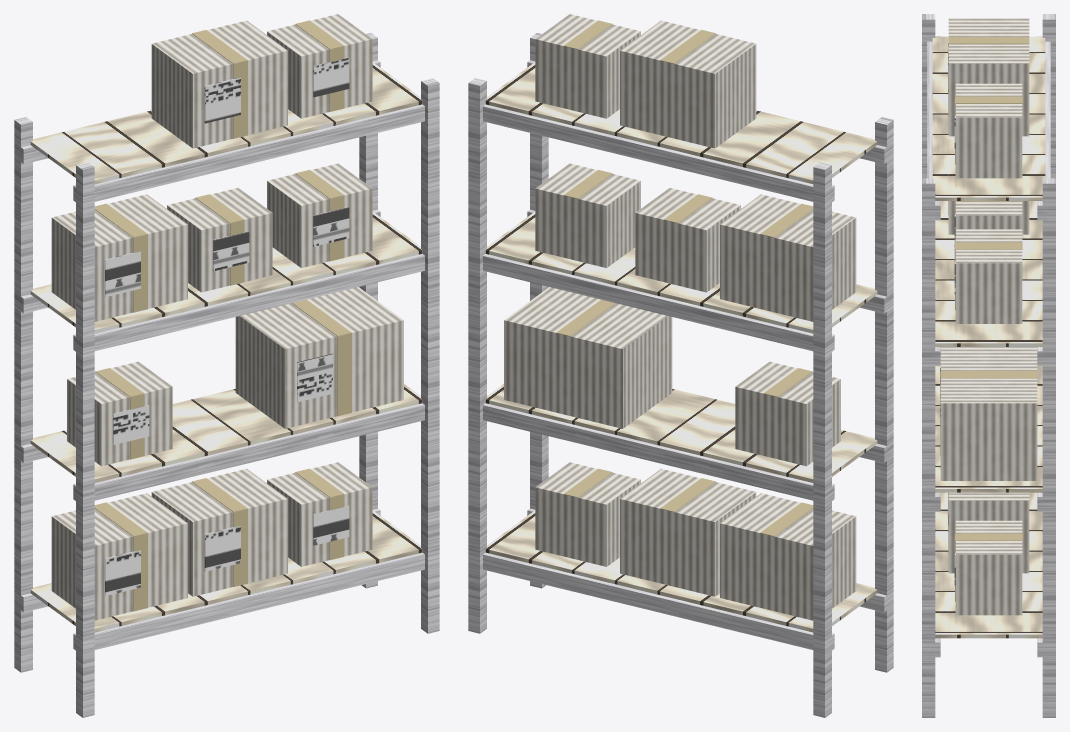
The model's file is rack_mag_dx0.obj.
3 views of the same model, side by side, from view 1: azimuth 30°, elevation 25°; view 2: azimuth 150°, elevation 25°; view 3: azimuth 270°, elevation 25° (orthographic). The views are drawn at different scales.
Parts seen in each view (by area): view 1: legno_002, metallo_000, metallo_001, cartone_015, cartone_027, cartone_003, cartone_018, cartone_006, cartone_024, cartone_009, cartone_030, cartone_021 (+21 smaller); view 2: legno_002, metallo_000, metallo_001, cartone_015, cartone_027, cartone_003, cartone_018, cartone_006, cartone_024, cartone_009, cartone_030, cartone_021 (+2 smaller); view 3: legno_002, metallo_000, cartone_015, cartone_009, cartone_024, cartone_030, cartone_027, cartone_006, metallo_001, cartone_021, liscio_016, liscio_028 (+4 smaller).
Part boxes in pixels (<box>): legno_002: <box>30,62,422,632</box>; metallo_000: <box>14,33,439,717</box>; metallo_001: <box>17,60,424,650</box>; cartone_015: <box>235,287,403,428</box>; cartone_027: <box>151,20,287,148</box>; cartone_003: <box>51,493,187,620</box>; cartone_018: <box>51,194,187,321</box>; cartone_006: <box>151,468,287,596</box>; cartone_024: <box>267,163,372,267</box>; cartone_009: <box>267,462,372,566</box>; cartone_030: <box>267,14,372,118</box>; cartone_021: <box>167,188,272,292</box>; legno_002: <box>485,62,877,632</box>; metallo_000: <box>468,33,893,717</box>; metallo_001: <box>483,60,890,653</box>; cartone_015: <box>504,287,672,428</box>; cartone_027: <box>620,20,756,148</box>; cartone_003: <box>720,493,856,620</box>; cartone_018: <box>720,194,856,321</box>; cartone_006: <box>620,468,756,596</box>; cartone_024: <box>535,163,640,267</box>; cartone_009: <box>535,462,640,566</box>; cartone_030: <box>535,14,640,118</box>; cartone_021: <box>635,188,740,292</box>; legno_002: <box>932,36,1045,638</box>; metallo_000: <box>922,14,1055,717</box>; cartone_015: <box>940,347,1037,480</box>; cartone_009: <box>955,520,1022,615</box>; cartone_024: <box>955,229,1022,323</box>; cartone_030: <box>955,83,1022,178</box>; cartone_027: <box>948,18,1029,136</box>; cartone_006: <box>948,492,1029,573</box>; metallo_001: <box>927,36,1050,657</box>; cartone_021: <box>955,202,1022,229</box>; liscio_016: <box>940,371,1037,455</box>; liscio_028: <box>948,37,1029,116</box>.
Size of the model in its own units: 1.5 by 2.43 by 0.5.
Materials: 8 (7 with a texture image).
